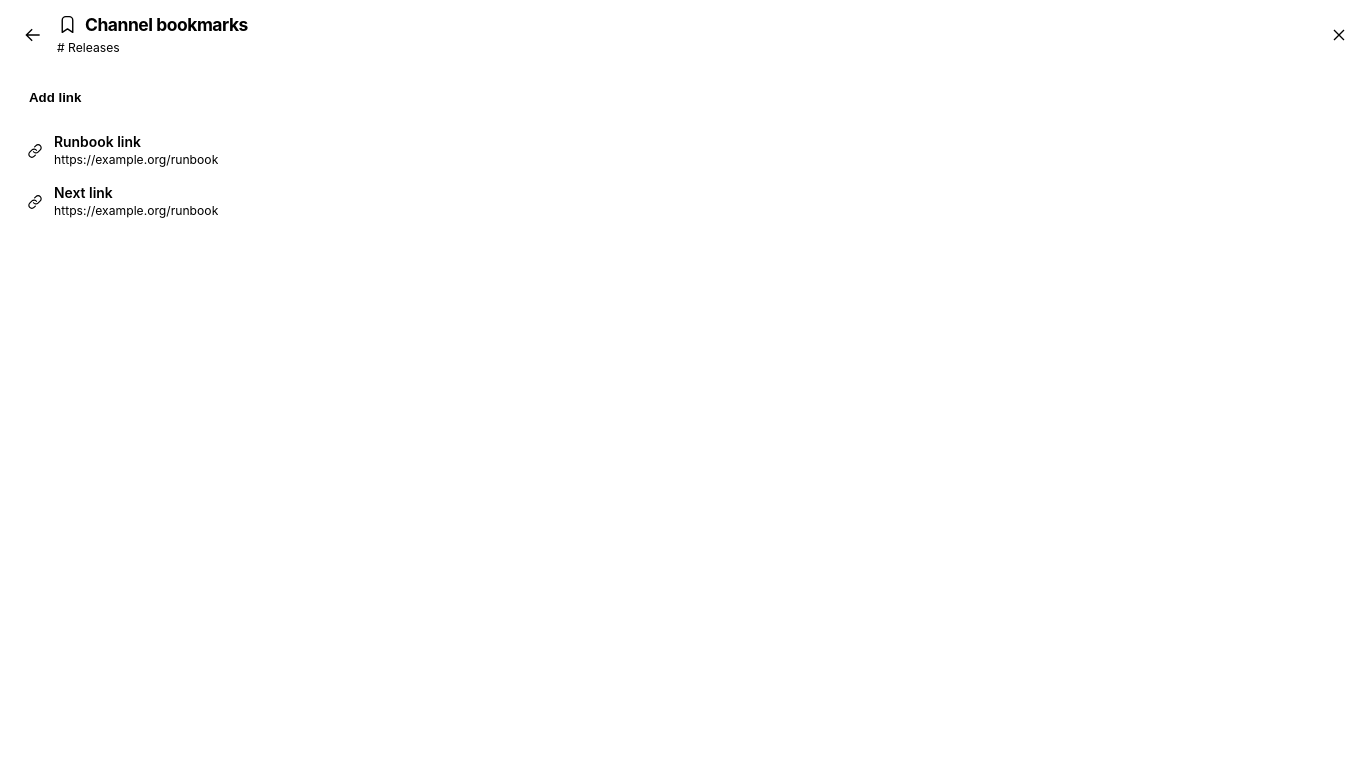
it: frozen review preserves active row context after a dismissed editor confirms delete
This screenshot has width=1366, height=768.
Later steps or results of the test are not shown.
What coordinates should you click on to do the following:
click the button "Runbook link https://example.org/runbook"
I would click on:
 (97, 142)
Its box is top-left (16, 125), bottom-right (1350, 176).
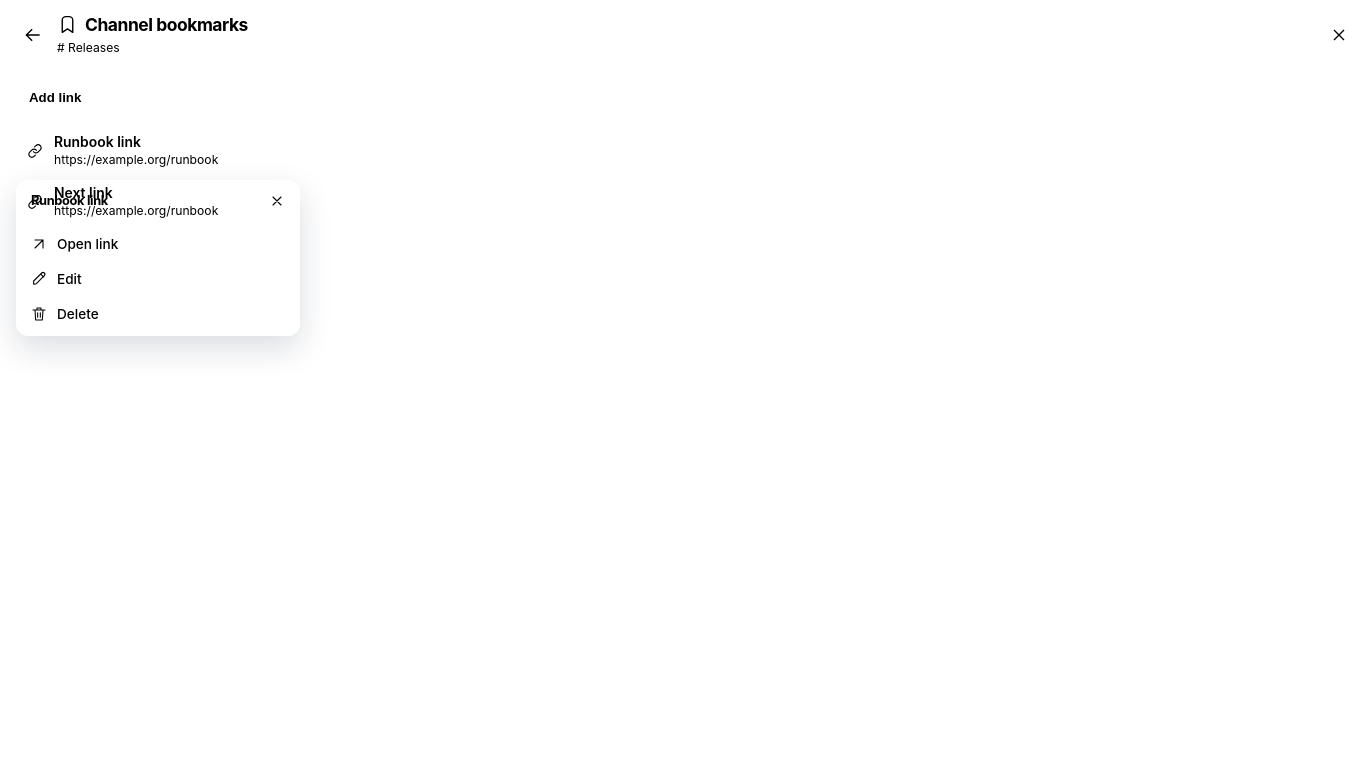
What coordinates should you click on to do the following:
click the button "Delete"
I would click on:
 (78, 314)
Its box is top-left (21, 296), bottom-right (295, 331).
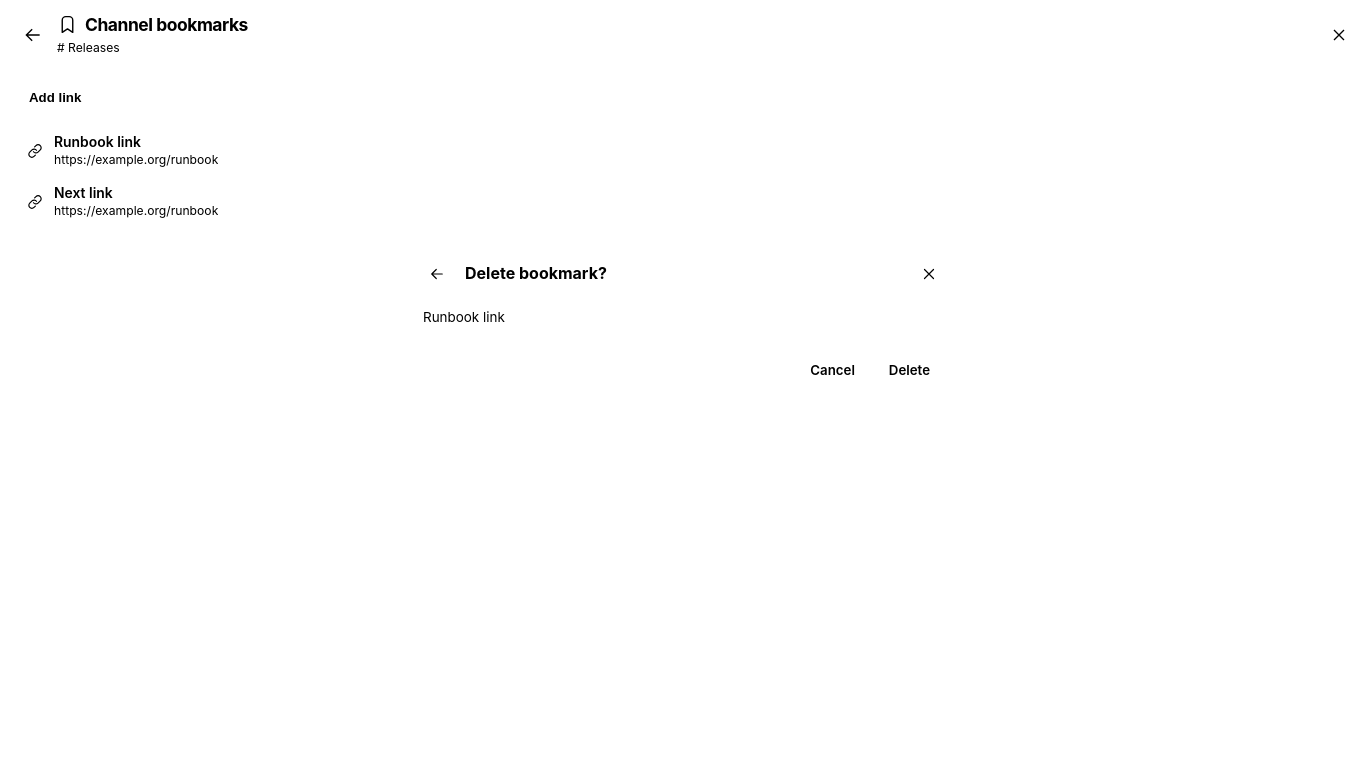
What coordinates should you click on to do the following:
click the button "Delete"
I would click on:
 (909, 370)
Its box is top-left (876, 354), bottom-right (943, 386).
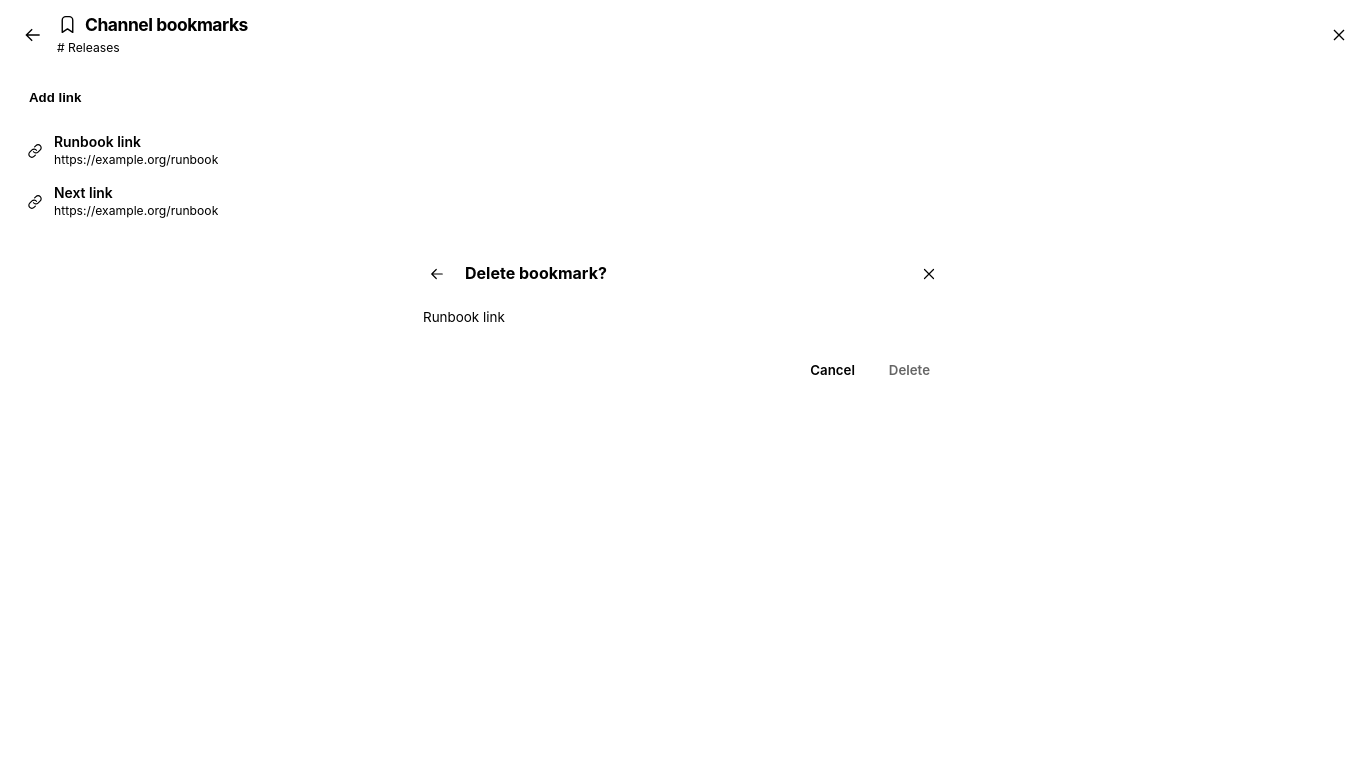
What coordinates should you click on to do the following:
click the button named "Close"
I would click on:
 (929, 274)
Its box is top-left (913, 258), bottom-right (945, 290).
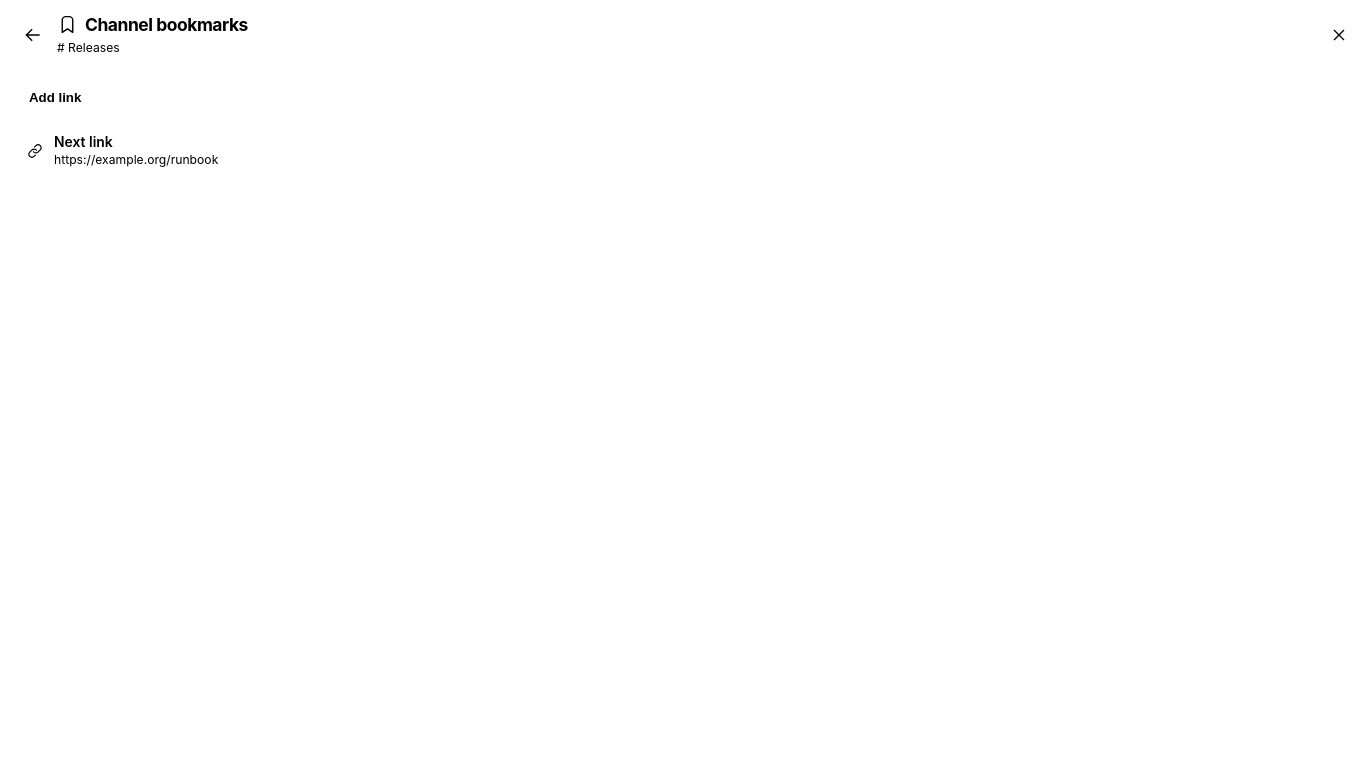
Check: the button "Runbook link" is gone
